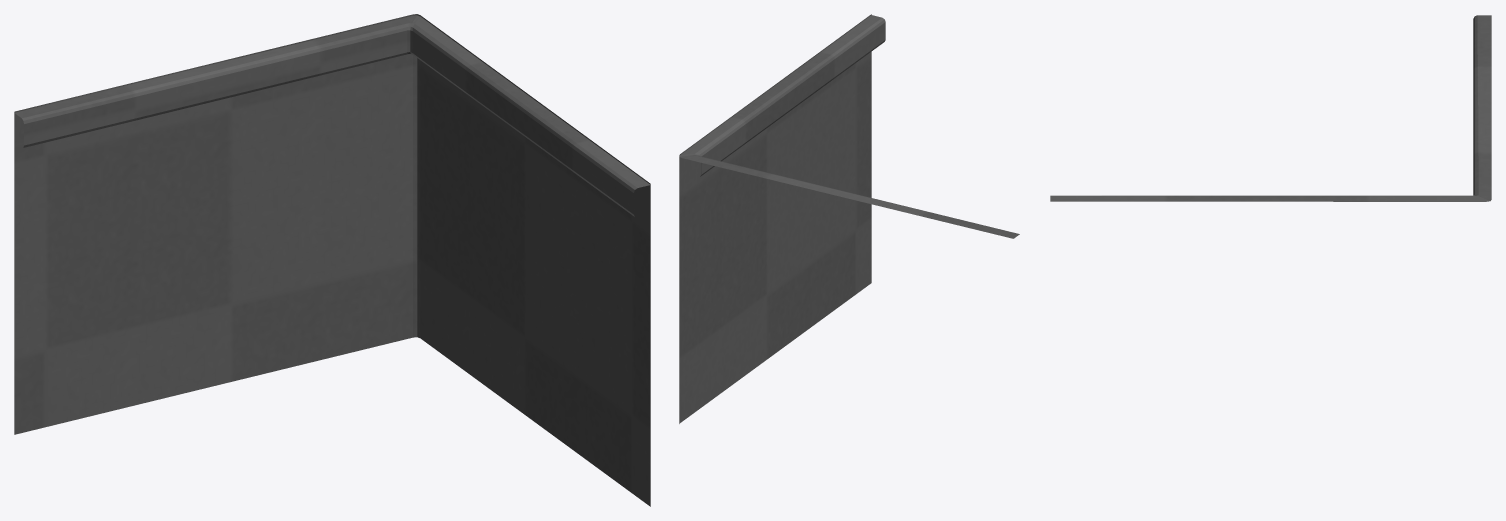
File: SM_House_Base_InnerCorner_A2.glb
3 renders of one model, left to right at view 1: azimuth 30°, elevation 25°; view 2: azimuth 150°, elevation 25°; view 3: azimuth 270°, elevation 25°, orthographic. The views are drawn at different scales.
Visible parts, largest first — view 1: SM_House_Base_InnerCorner_A2; view 2: SM_House_Base_InnerCorner_A2; view 3: SM_House_Base_InnerCorner_A2.
Part boxes in pixels (x1,y1,x2,y2): SM_House_Base_InnerCorner_A2: [14, 14, 650, 506]; SM_House_Base_InnerCorner_A2: [679, 14, 1019, 423]; SM_House_Base_InnerCorner_A2: [1050, 15, 1491, 201].
Size of the model in its own units: 65.31 by 50 by 65.31.
Materials: 1 (1 with a texture image).
